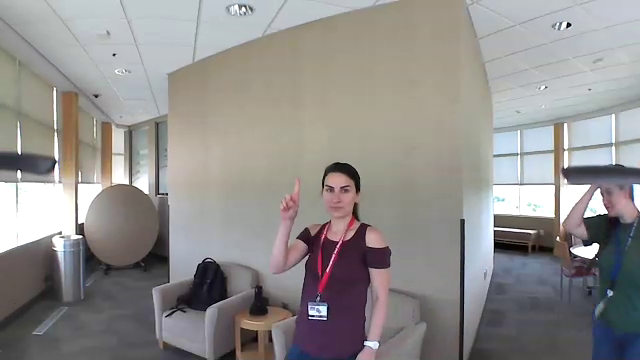up: (276, 175, 306, 227)
